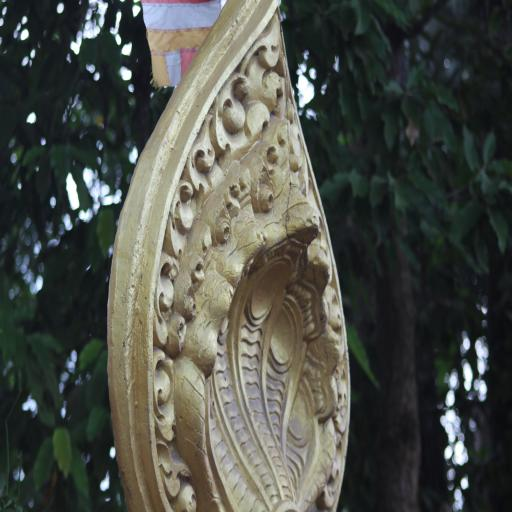la: (250, 16, 285, 116), (217, 67, 253, 157), (166, 171, 202, 255), (157, 435, 193, 512), (156, 248, 184, 344), (152, 345, 176, 439), (195, 124, 222, 191), (323, 436, 347, 511), (329, 356, 349, 434), (287, 110, 306, 188), (322, 278, 343, 344)
ran: (176, 181, 346, 512)
